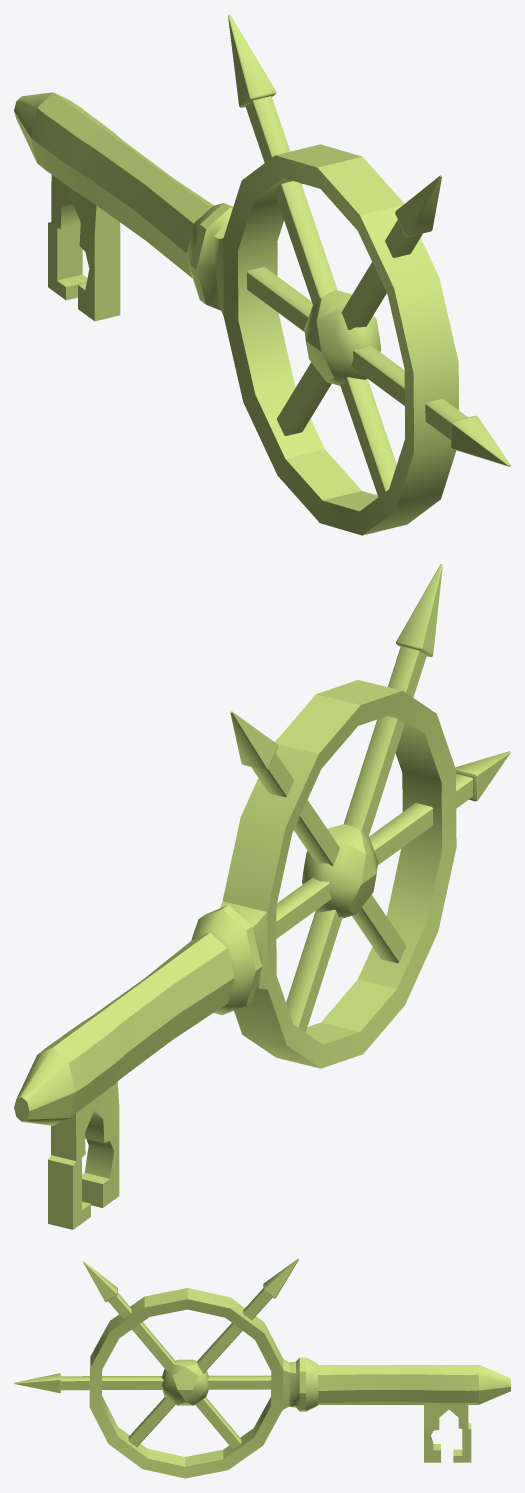
File: Key (1).fbx
3 renders of one model, top to bottom at view 1: azimuth 30°, elevation 25°; view 2: azimuth 150°, elevation 25°; view 3: azimuth 270°, elevation 25°, orthographic. The views are drawn at different scales.
Visible parts, largest first — view 1: Key; view 2: Key; view 3: Key.
Boxes of the visible parts, <box> form: Key: <box>14,14,510,535</box>; Key: <box>14,564,510,1229</box>; Key: <box>14,1258,510,1478</box>.
Size of the model in its own units: 5.1 by 30.42 by 64.
